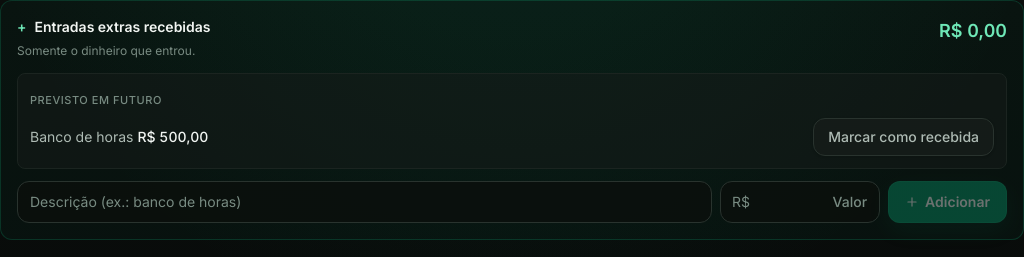
Scenario: ActualCashEntries › converte uma previsão em recebida uma única vez
This screenshot has width=1024, height=257.
Step 1. Click the button "Marcar como recebida" → x=904, y=136, box [813,118,994,156]
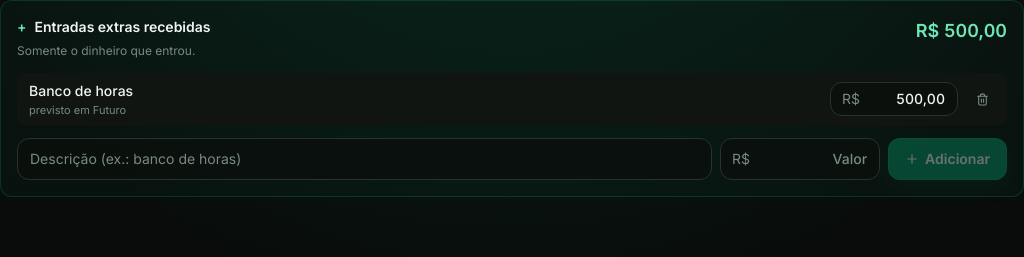
Expected: the text "previsto em Futuro" is shown, [29,102,126,116]
Result: the button "Marcar como recebida" is gone
Result: the text "Banco de horas" is shown once at [29,82,133,98]
